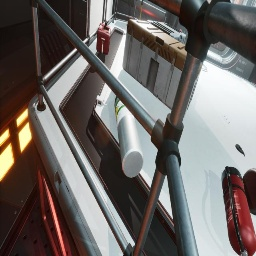0: (115, 96, 144, 178)
FireExtinguisher ]: (221, 166, 256, 256)
FirstAidBox ,: (96, 20, 111, 55)
NitrogenTank ,: (242, 168, 256, 215)
